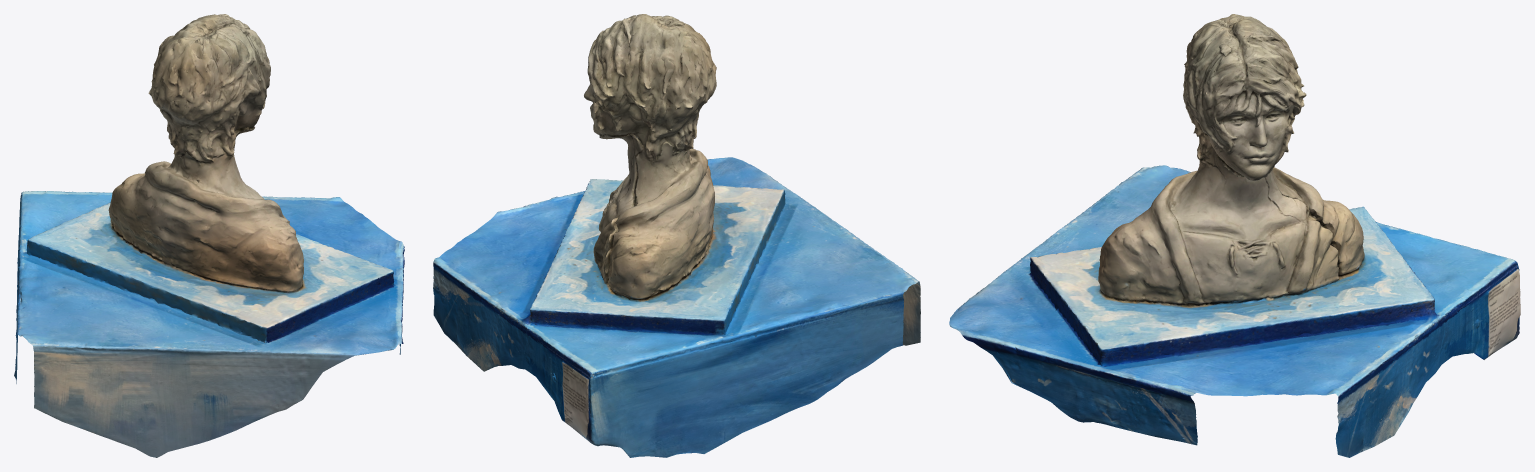
Rendered from freedom.glb.
The picture shows the model from 3 angles, left to right: view 1: azimuth 30°, elevation 25°; view 2: azimuth 150°, elevation 25°; view 3: azimuth 270°, elevation 25°; orthographic projection. The views are drawn at different scales.
Visible parts, largest first — view 1: _material_0; view 2: _material_0; view 3: _material_0.
Part boxes in pixels (x1,y1,x2,y2): _material_0: (14, 14, 404, 457); _material_0: (433, 14, 920, 457); _material_0: (949, 14, 1520, 457).
Bounding box in the file's own units: 0.0167 × 0.0143 × 0.0188.
1 material, 1 textured.
